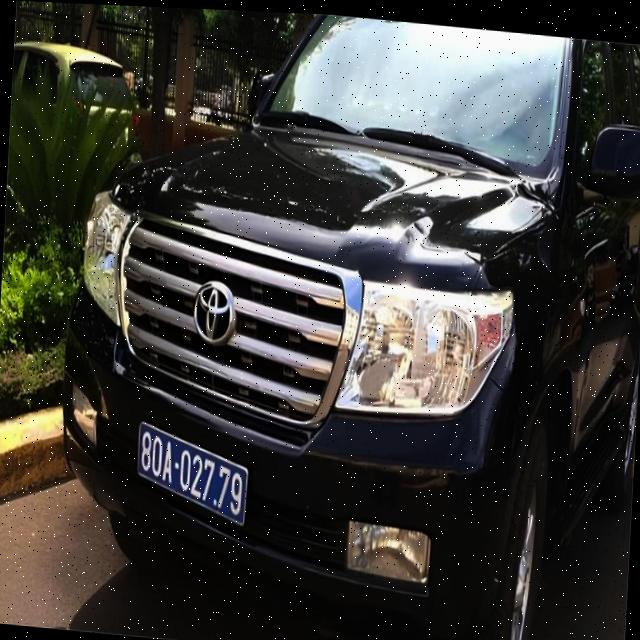car: (51, 2, 640, 640)
plate: (126, 415, 254, 536)
